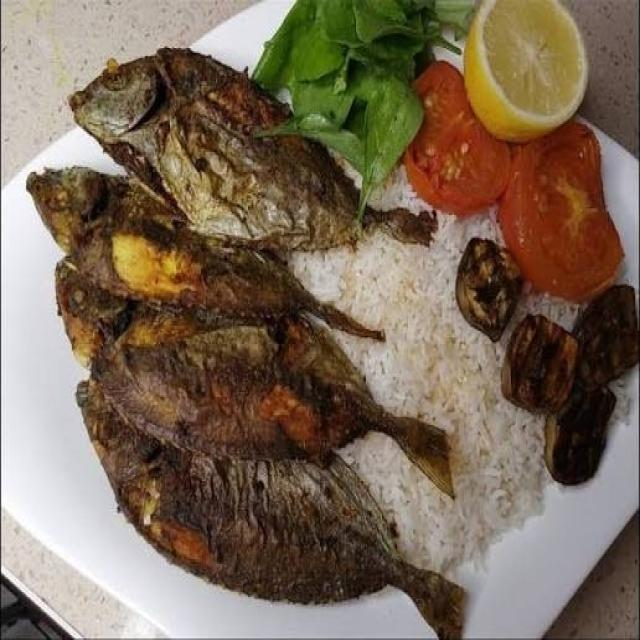Fried Fish: (44, 29, 477, 635)
